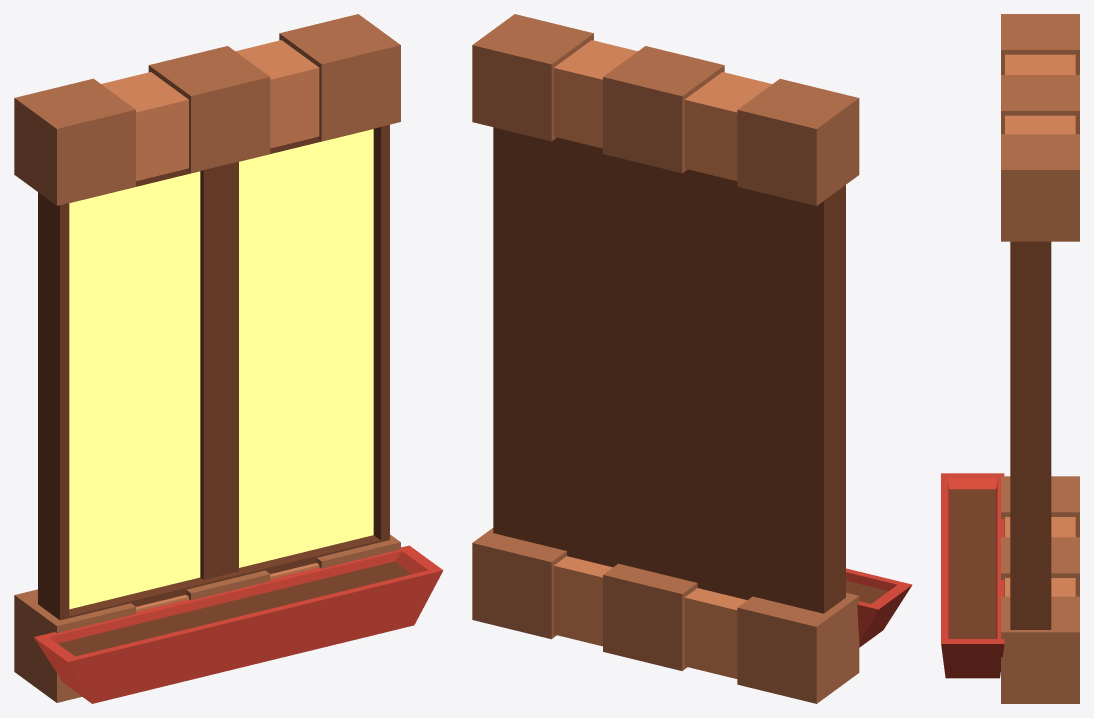
The model's file is village_pack_window_3.glb.
The picture shows the model from 3 angles, left to right: view 1: azimuth 30°, elevation 25°; view 2: azimuth 150°, elevation 25°; view 3: azimuth 270°, elevation 25°; orthographic projection. The views are drawn at different scales.
Visible parts, largest first — view 1: window 3_brick 1_0; view 2: window 3_brick 1_0; view 3: window 3_brick 1_0.
Part boxes in pixels (box(x1,y1,x2,y2)): window 3_brick 1_0: box(14, 14, 443, 703); window 3_brick 1_0: box(472, 14, 912, 703); window 3_brick 1_0: box(941, 14, 1079, 703).
Size of the model in its own units: 1.46 by 2.13 by 0.5013.
